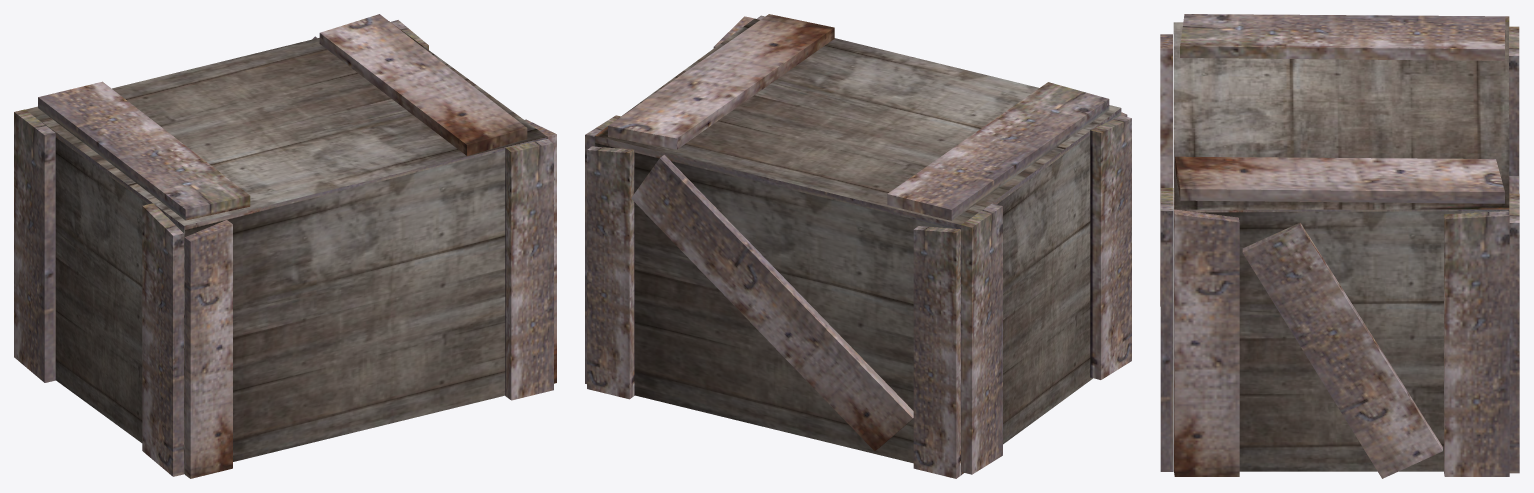
File: WoodBox.FBX
3 views of the same model, side by side, from view 1: azimuth 30°, elevation 25°; view 2: azimuth 150°, elevation 25°; view 3: azimuth 270°, elevation 25° (orthographic). The views are drawn at different scales.
Parts seen in each view (by area): view 1: WoodBox; view 2: WoodBox; view 3: WoodBox.
Part boxes in pixels (x1,y1,x2,y2): WoodBox: (14,14,556,478); WoodBox: (585,14,1131,478); WoodBox: (1160,14,1519,478).
Bounding box in the file's own units: 95.64 × 62.38 × 73.32.
1 material, 1 textured.
